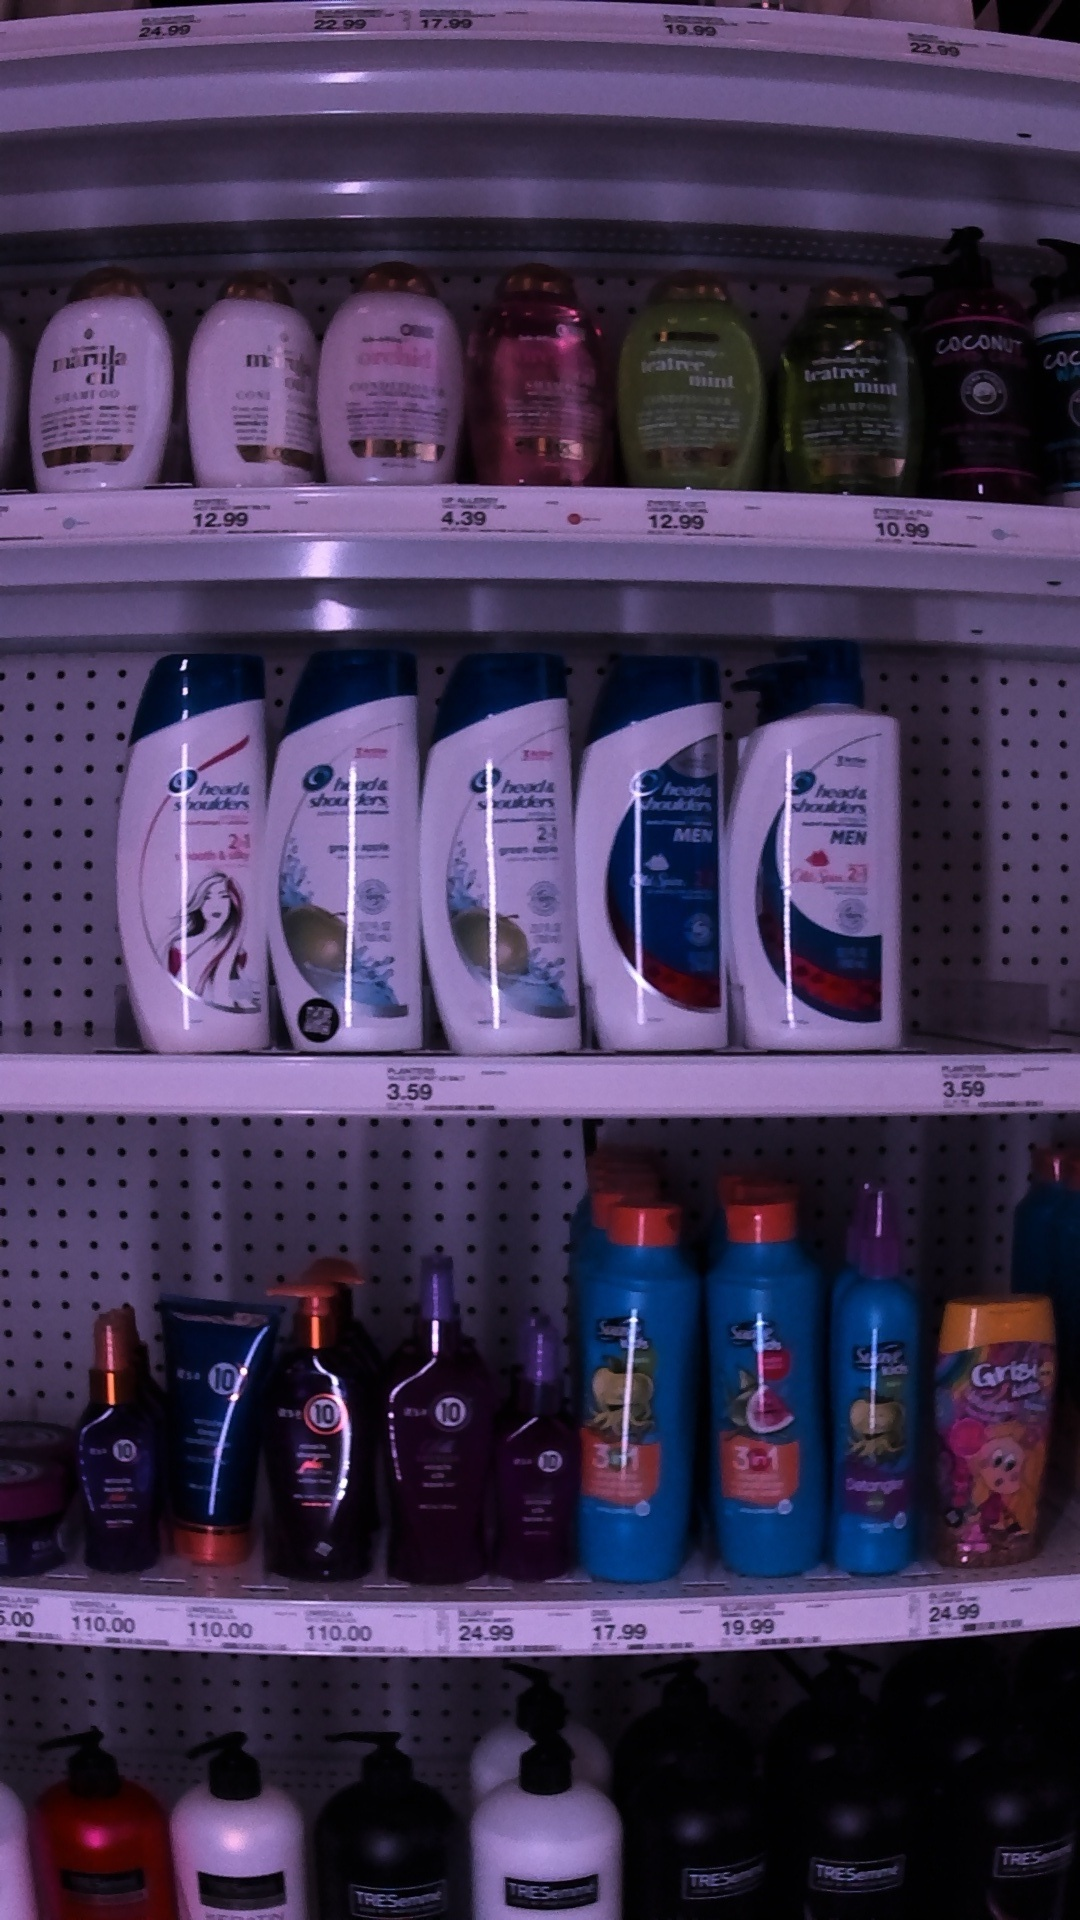ptag: (380, 1051, 524, 1117), (858, 493, 989, 560), (451, 1593, 578, 1662), (422, 487, 551, 551), (301, 1597, 429, 1662), (715, 1589, 833, 1658), (886, 15, 1011, 79), (585, 1597, 705, 1664), (902, 1586, 1046, 1640), (185, 487, 309, 549), (636, 493, 764, 551), (179, 1589, 284, 1660), (931, 1055, 1054, 1112), (69, 1582, 169, 1648), (658, 4, 782, 51), (117, 7, 244, 51), (301, 1, 418, 44), (425, 1, 529, 46)
